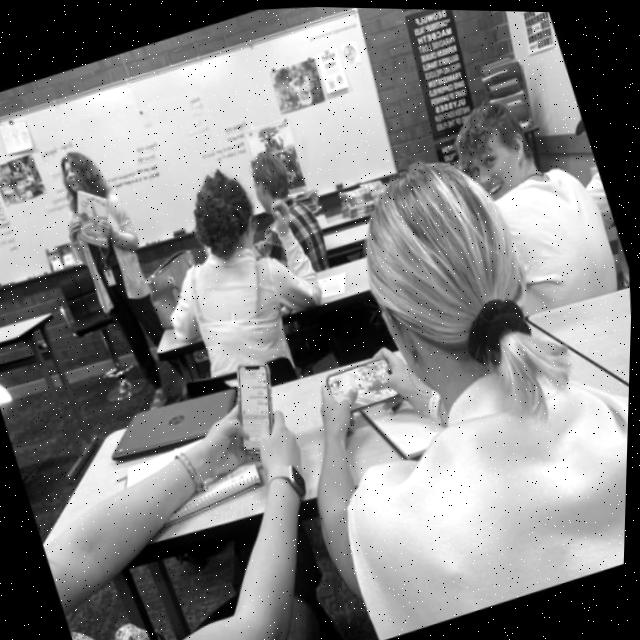phone: (216, 351, 298, 459), (323, 350, 404, 417)
